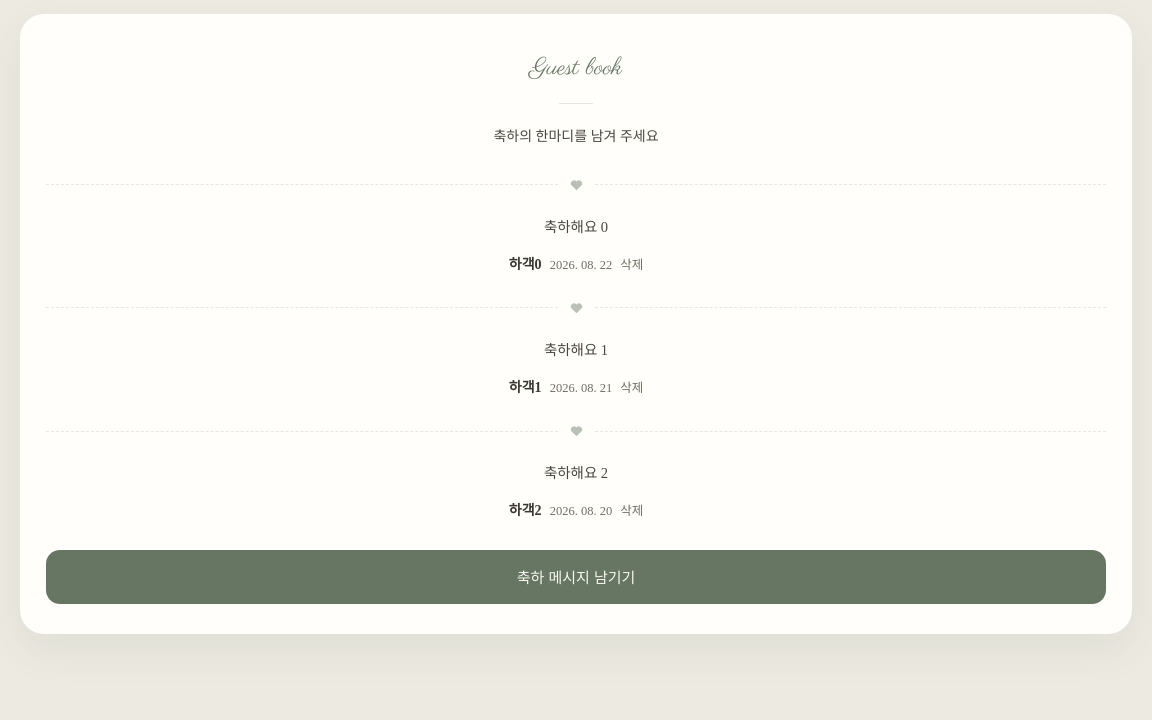
Scenario: Guestbook 삭제 › 지운 뒤 다시 읽어 다음 글을 올린다
The width and height of the screenshot is (1152, 720).
Click the button with aria-label "하객1 님이 남긴 메시지 지우기" at point(632, 387), box [612,365,651,409]
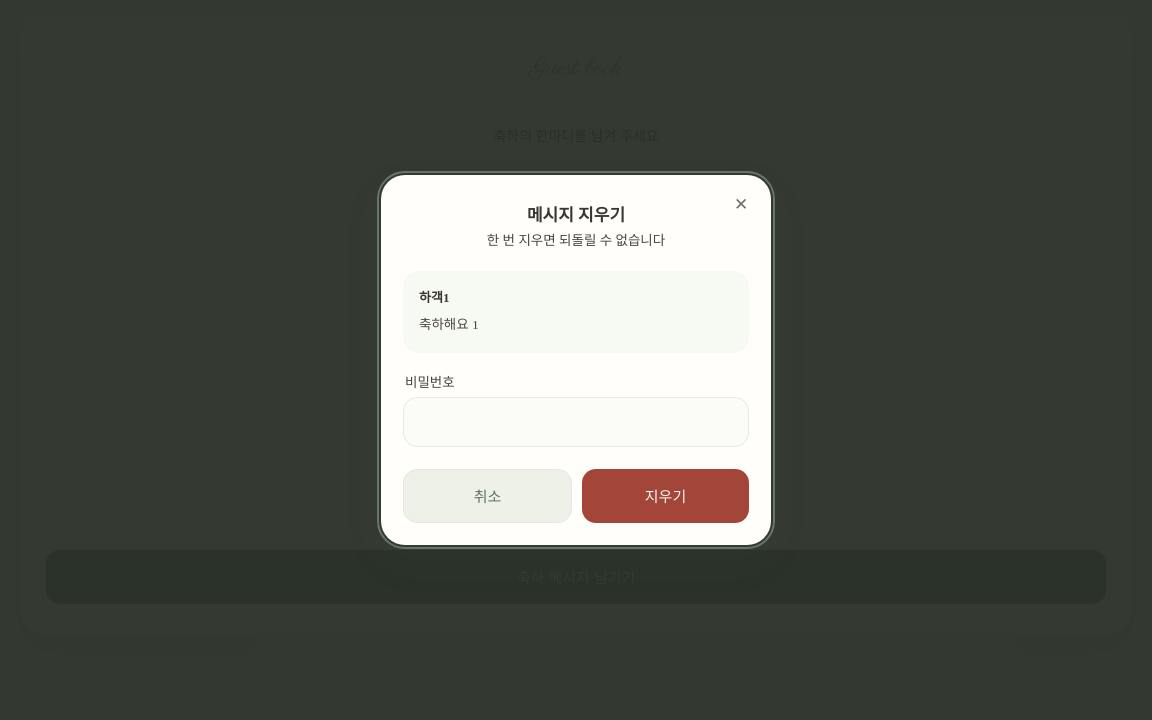
Type "1234" into the password field labelled "비밀번호" at point(576, 422), box [403,397,749,447]
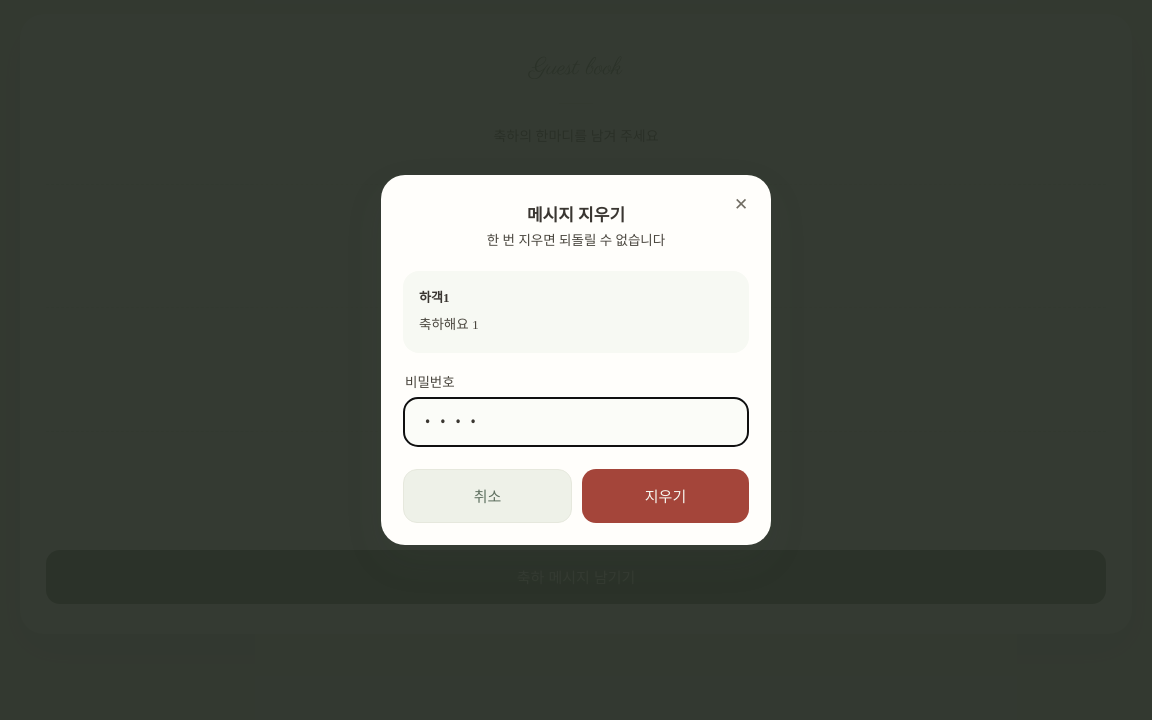
Click the button "지우기" at point(666, 496), box [582,469,749,523]
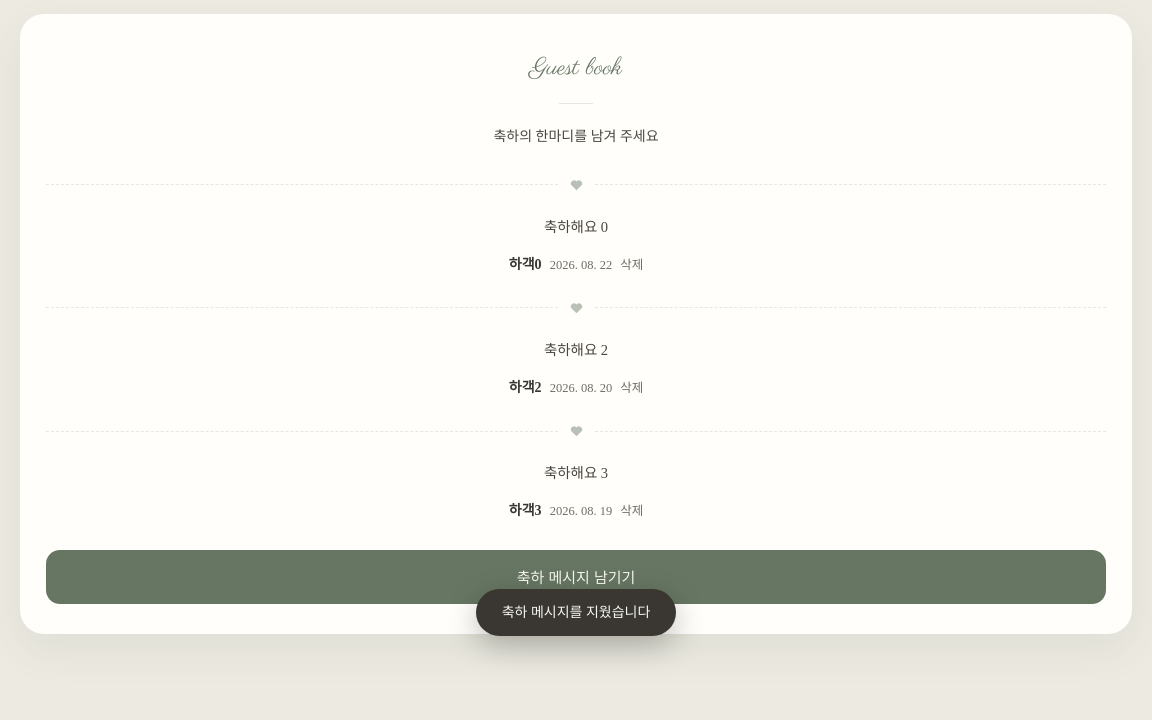
Check: the text "축하해요 3" is shown, box [544,465,608,481]
Check: the text "축하해요 1" is gone
